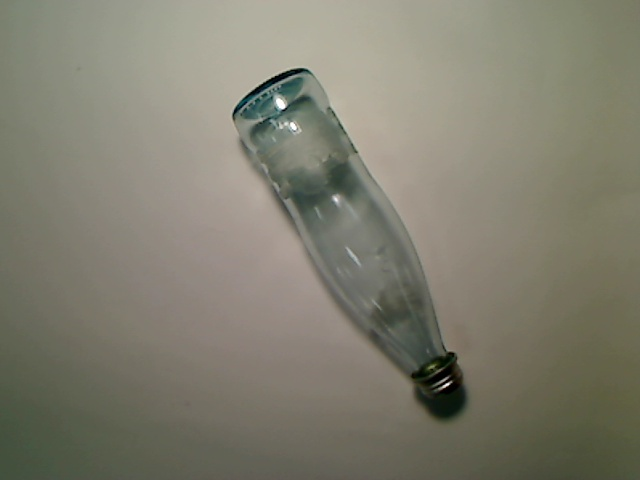bottle: (231, 67, 464, 402)
